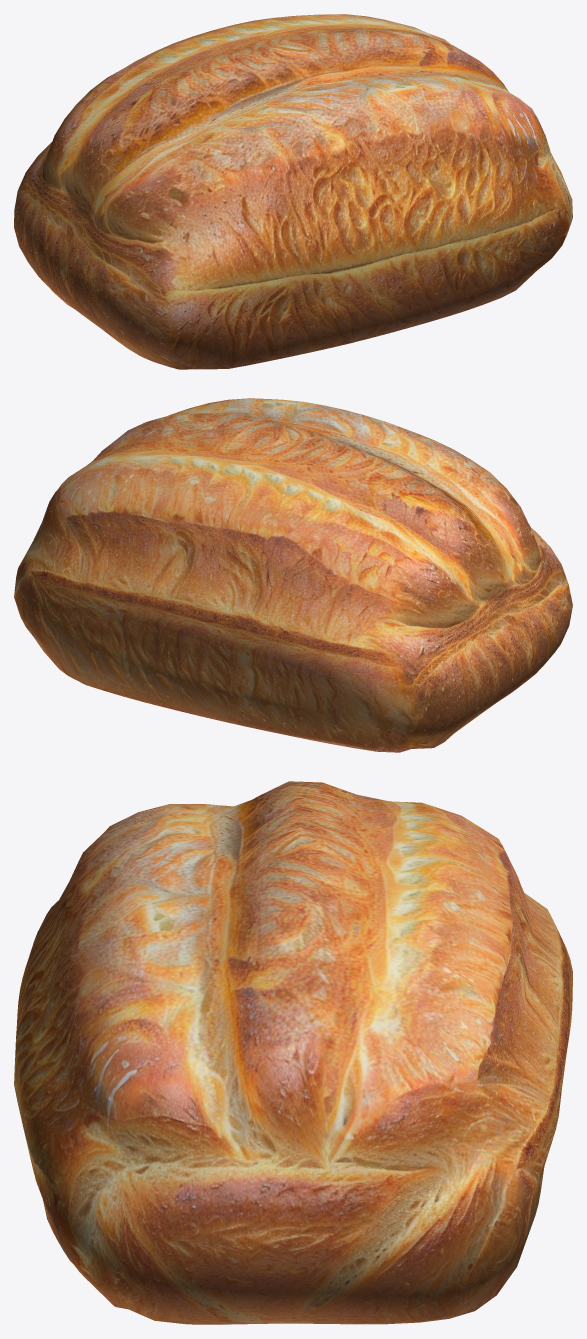
Rendered from bread_roll.glb.
The picture shows the model from 3 angles, top to bottom: view 1: azimuth 30°, elevation 25°; view 2: azimuth 150°, elevation 25°; view 3: azimuth 270°, elevation 25°; orthographic projection. The views are drawn at different scales.
Parts seen in each view (by area): view 1: BreadRoll; view 2: BreadRoll; view 3: BreadRoll.
Part boxes in pixels (bbox=[...]): BreadRoll: bbox=[14, 14, 572, 369]; BreadRoll: bbox=[14, 398, 572, 752]; BreadRoll: bbox=[14, 781, 572, 1324].
Size of the model in its own units: 0.1026 by 0.0513 by 0.0721.
1 material, 1 textured.
